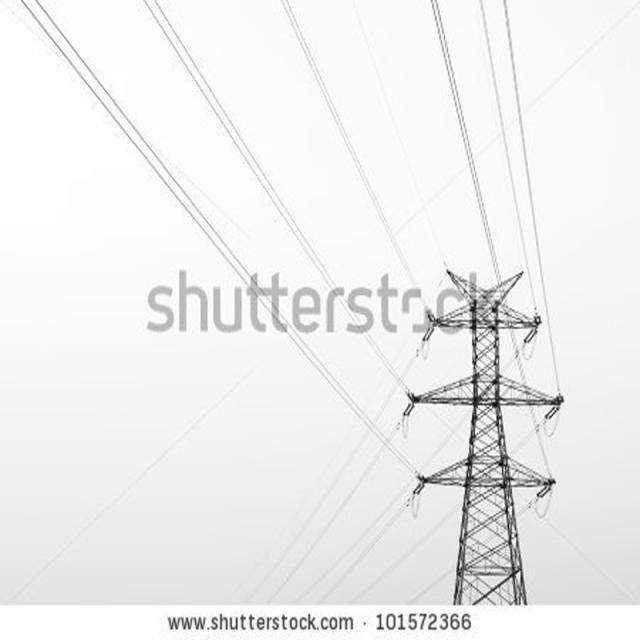non-critical vegetation: (412, 250, 566, 605)
